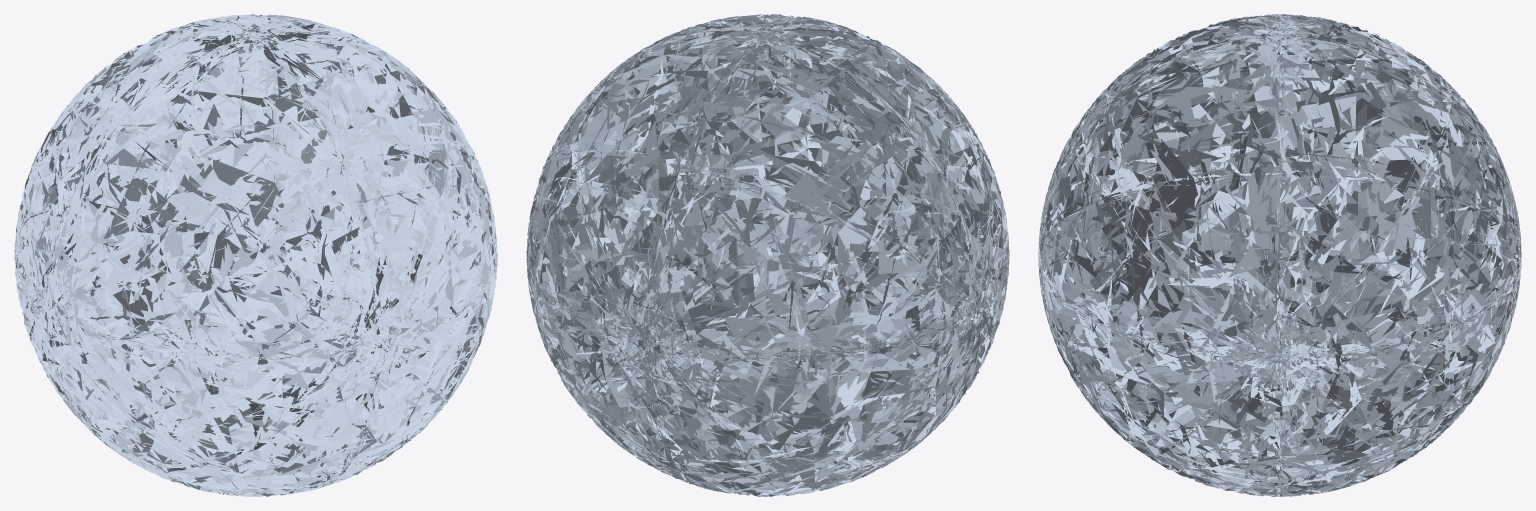
3 views of the same model, side by side, from view 1: azimuth 30°, elevation 25°; view 2: azimuth 150°, elevation 25°; view 3: azimuth 270°, elevation 25° (orthographic).
Visible parts, largest first — view 1: 16-16-structural; view 2: 16-16-structural; view 3: 16-16-structural.
Boxes of the visible parts, x1=… form: 16-16-structural: x1=14, y1=14, x2=497, y2=496; 16-16-structural: x1=526, y1=14, x2=1009, y2=496; 16-16-structural: x1=1038, y1=14, x2=1521, y2=496.
Size of the model in its own units: 2 by 2 by 2.
